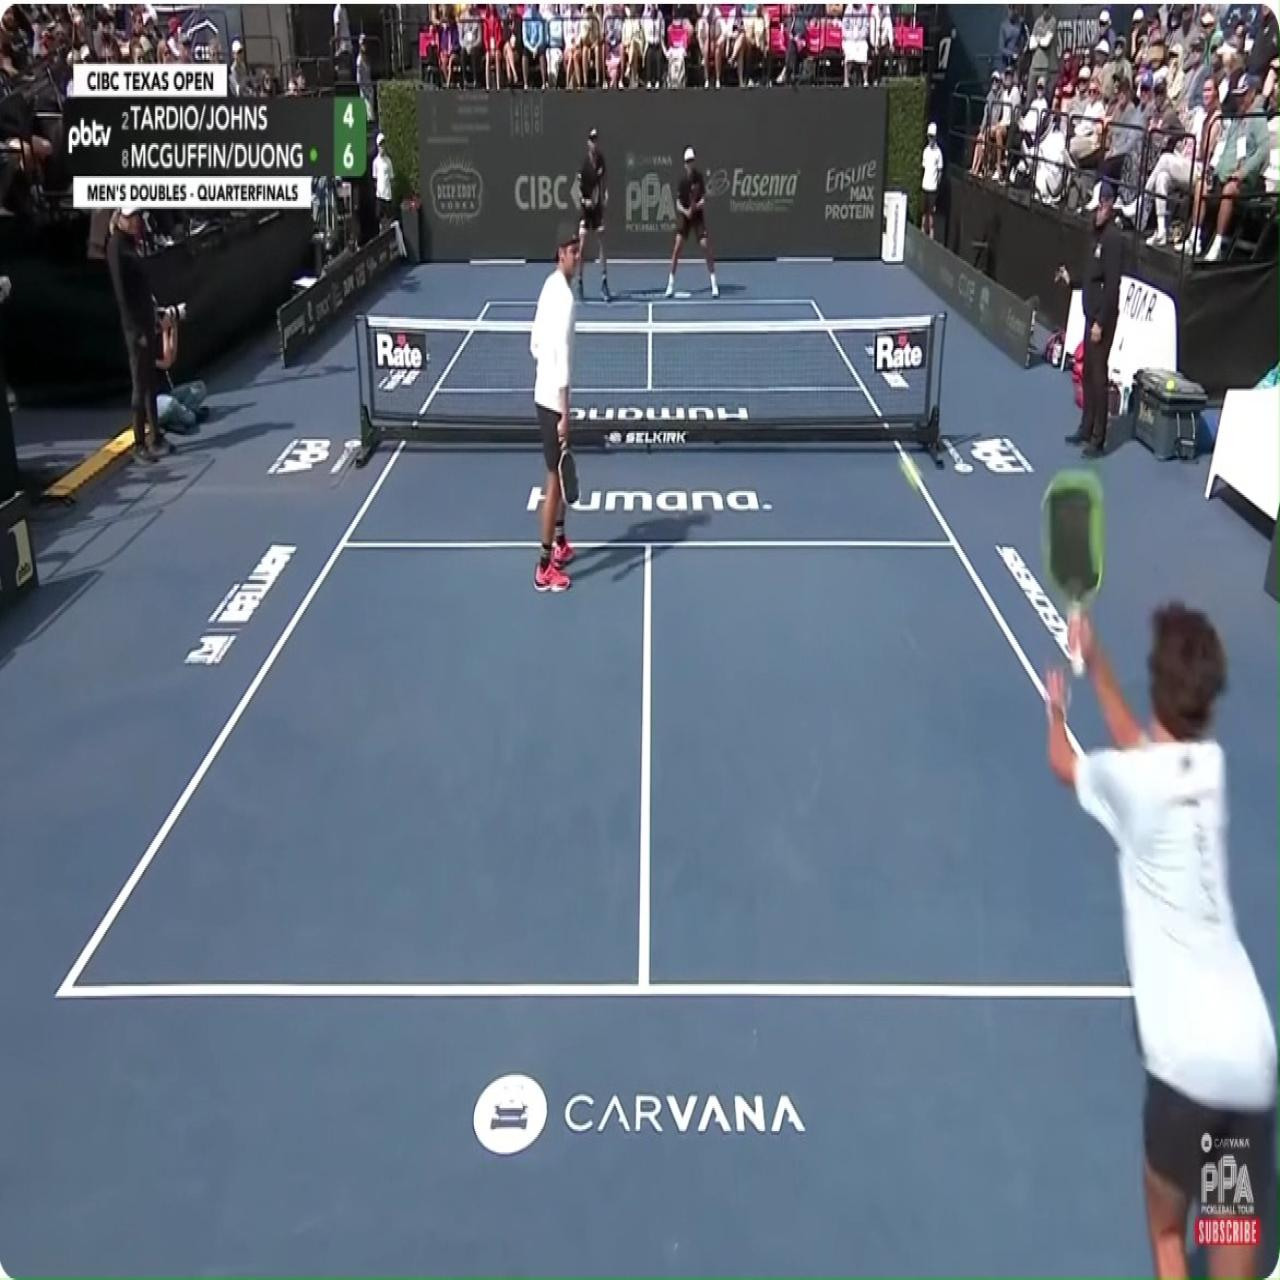pickleball: (898, 451, 920, 489)
